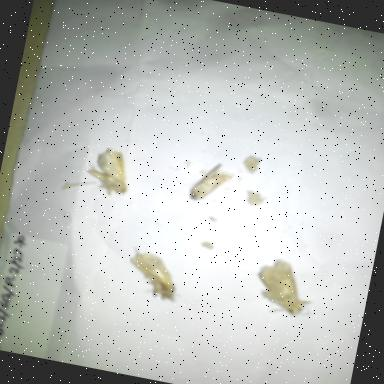abw: (244, 250, 324, 330), (118, 242, 194, 312), (77, 138, 147, 208), (180, 154, 244, 212)
